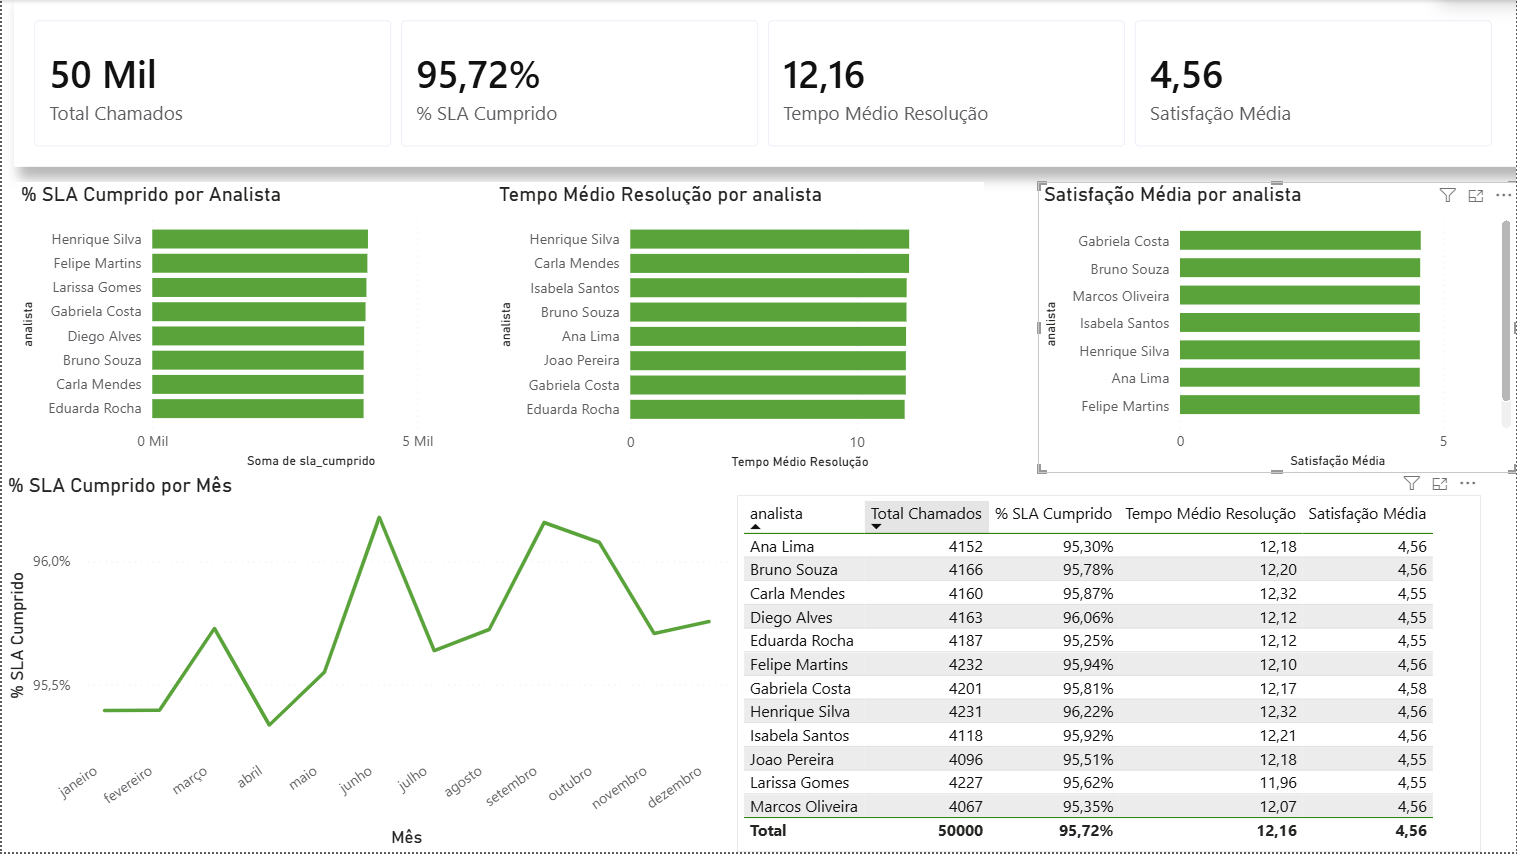

Layout of this report page (visuals, bound fields, positions):
{"tool":"powerbi","page":{"name":"Desempenho dos analista","canvas":[1280,720],"ordinal":1},"visuals":[{"type":"cardVisual","fields":{"Data":["chamados_suporte.Total Chamados","chamados_suporte.% SLA Cumprido","chamados_suporte.Tempo Médio Resolução","chamados_suporte.Satisfação Média"]},"box":[10.4,0,1269.6,141.5],"z":0},{"type":"barChart","title":"% SLA Cumprido por Analista","fields":{"Category":["chamados_suporte.analista"],"Y":["Sum(chamados_suporte.sla_cumprido)"]},"box":[10.7,153.7,403.6,246.1],"z":1000},{"type":"barChart","fields":{"Category":["chamados_suporte.analista"],"Y":["chamados_suporte.Tempo Médio Resolução"]},"box":[414.9,153.8,414.9,246.8],"z":2000},{"type":"barChart","fields":{"Category":["chamados_suporte.analista"],"Y":["chamados_suporte.Satisfação Média"]},"box":[875.5,153.8,404.8,245.9],"z":3000},{"type":"lineChart","fields":{"Category":["chamados_suporte.data_abertura.Variation.Hierarquia de datas.Mês"],"Y":["chamados_suporte.% SLA Cumprido"]},"box":[0,399.7,621.1,320.3],"z":4000},{"type":"tableEx","fields":{"Values":["chamados_suporte.analista","chamados_suporte.Total Chamados","chamados_suporte.% SLA Cumprido","chamados_suporte.Tempo Médio Resolução","chamados_suporte.Satisfação Média"]},"box":[621.1,418.3,628.7,301.7],"z":5000}]}

Visuals, with their boxes in screenshot pixels (x1, y1, x2, y2), scaled from the page's 1280x720 canvas onto the 1517x855 screenshot:
cardVisual - chamados_suporte.Total Chamados x chamados_suporte.% SLA Cumprido: left=12, top=0, right=1516, bottom=168
"% SLA Cumprido por Analista" barChart: left=13, top=183, right=491, bottom=475
barChart - chamados_suporte.analista x chamados_suporte.Tempo Médio Resolução: left=492, top=183, right=983, bottom=476
barChart - chamados_suporte.analista x chamados_suporte.Satisfação Média: left=1038, top=183, right=1516, bottom=475
lineChart - chamados_suporte.data_abertura.Variation.Hierarquia de datas.Mês x chamados_suporte.% SLA Cumprido: left=0, top=475, right=736, bottom=854
tableEx - chamados_suporte.analista x chamados_suporte.Total Chamados: left=736, top=497, right=1481, bottom=854
